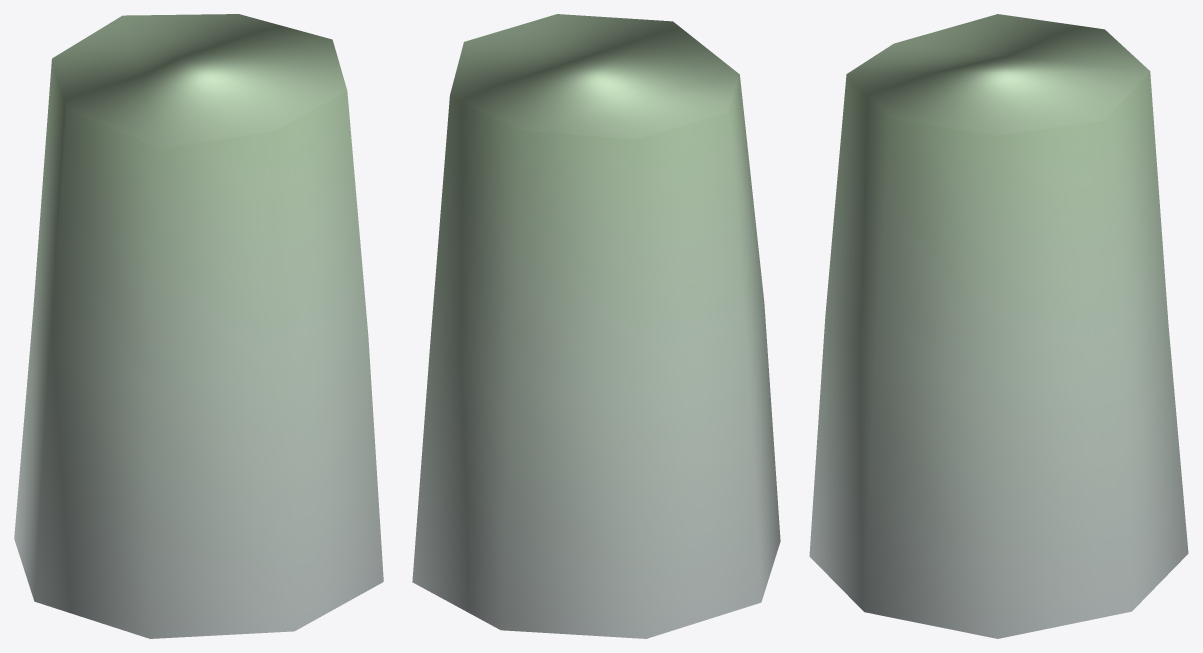
The model's file is greenonion_piece2.fbx.
3 renders of one model, left to right at view 1: azimuth 30°, elevation 25°; view 2: azimuth 150°, elevation 25°; view 3: azimuth 270°, elevation 25°, orthographic.
Visible parts, largest first — view 1: GreenOnion.007; view 2: GreenOnion.007; view 3: GreenOnion.007.
Boxes of the visible parts, <box> form: GreenOnion.007: <box>14,14,383,638</box>; GreenOnion.007: <box>412,14,780,638</box>; GreenOnion.007: <box>809,14,1188,638</box>.
Bounding box in the file's own units: 48.26 × 69.75 × 48.94.
